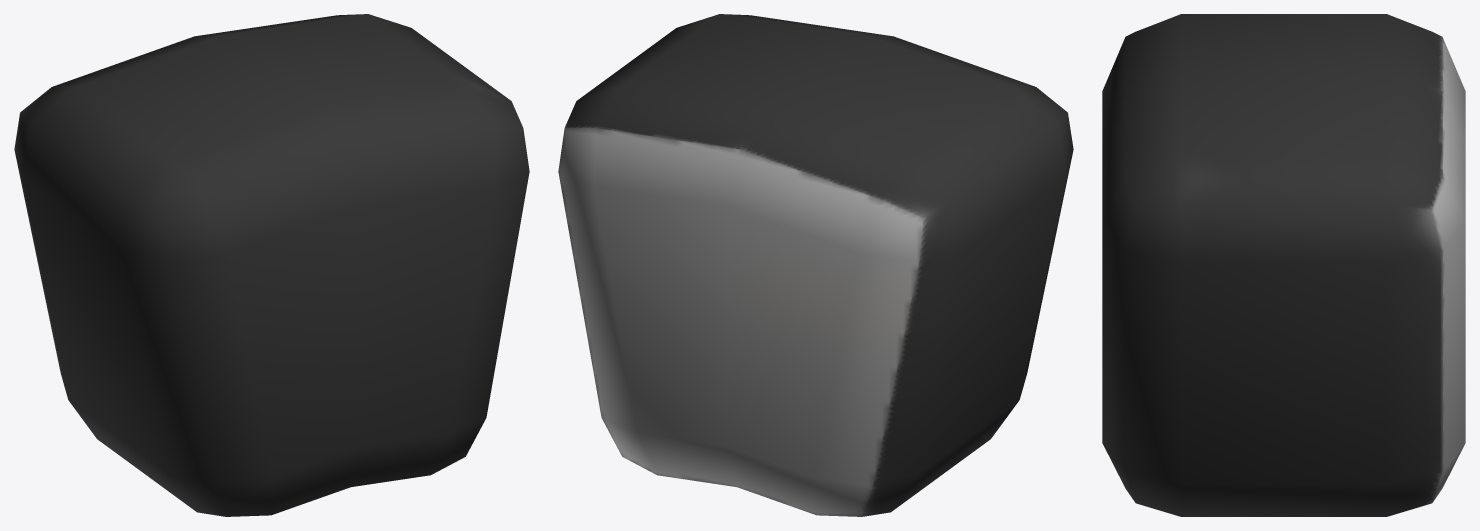
Rendered from block1.fbx.
3 renders of one model, left to right at view 1: azimuth 30°, elevation 25°; view 2: azimuth 150°, elevation 25°; view 3: azimuth 270°, elevation 25°, orthographic. The views are drawn at different scales.
Visible parts, largest first — view 1: castle gate.002; view 2: castle gate.002; view 3: castle gate.002.
Boxes of the visible parts, x1,y1,x2,y2 form: castle gate.002: (14, 14, 529, 516); castle gate.002: (558, 14, 1073, 516); castle gate.002: (1102, 14, 1465, 516).
Size of the model in its own units: 74.93 by 69.4 by 57.36.
